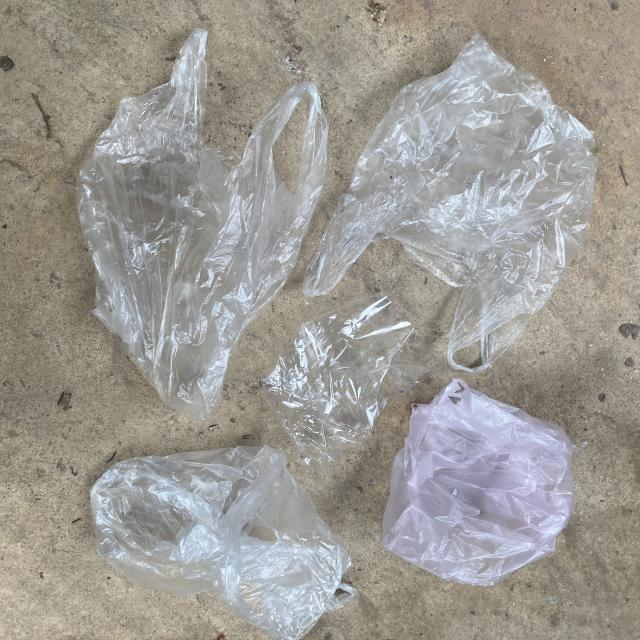Single-layer Plastic: (304, 35, 596, 372), (78, 29, 329, 420), (91, 446, 358, 640), (381, 379, 575, 586), (262, 294, 430, 470)
